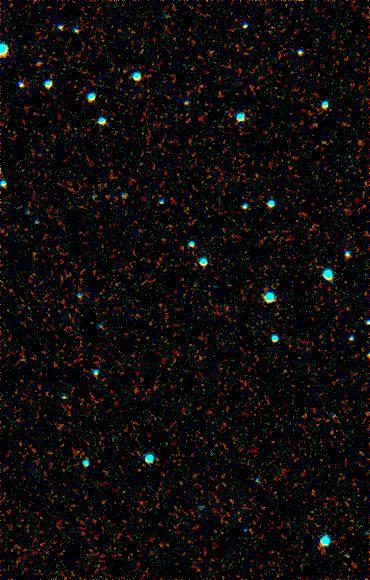star: (95, 181, 125, 211)
